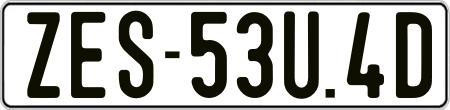3: (235, 10, 273, 96)
4: (345, 12, 382, 104)
5: (188, 9, 229, 97)
D: (394, 10, 436, 100)
E: (69, 11, 105, 100)
S: (118, 9, 156, 98)
U: (283, 8, 319, 102)
Z: (24, 9, 58, 101)
